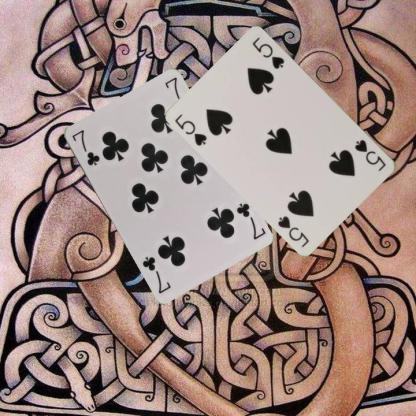5s: (352, 136, 388, 173), (172, 112, 209, 148)
7c: (233, 200, 267, 241), (69, 127, 101, 167)
